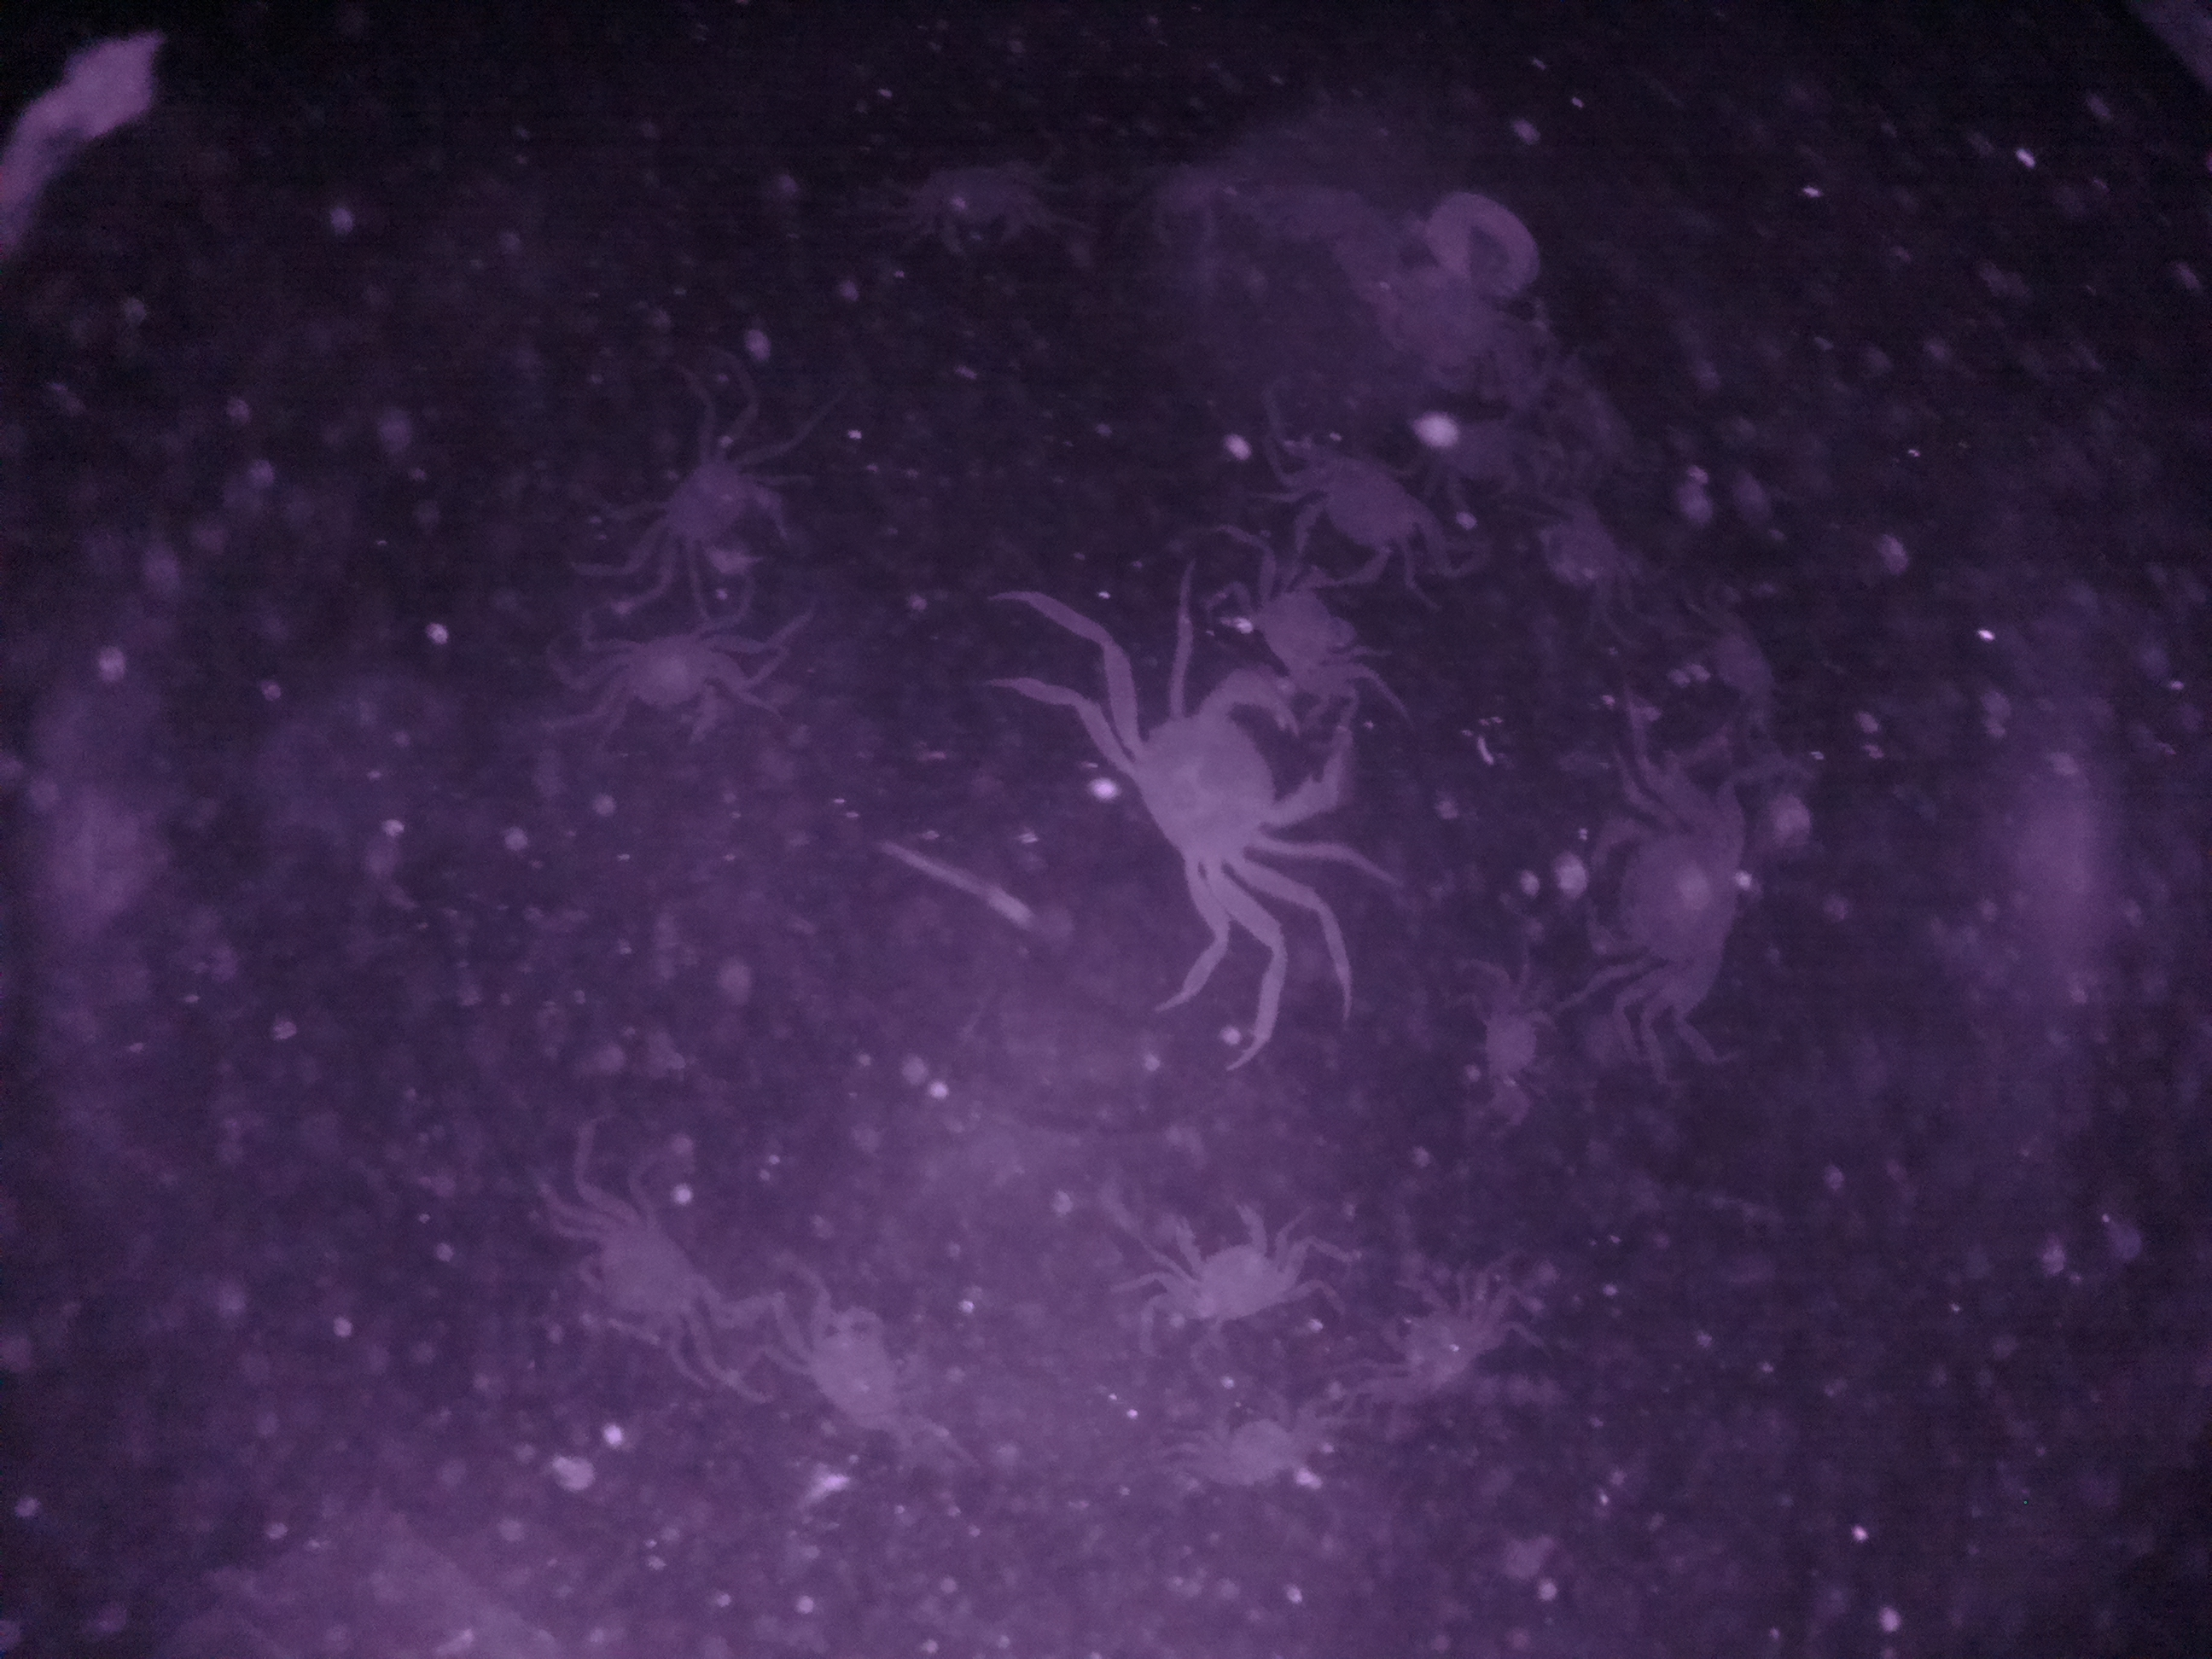Crab: (1087, 662, 1374, 939), (1559, 784, 1763, 1026), (631, 427, 812, 603), (1127, 1194, 1322, 1345), (1273, 446, 1458, 599), (570, 617, 766, 760)
